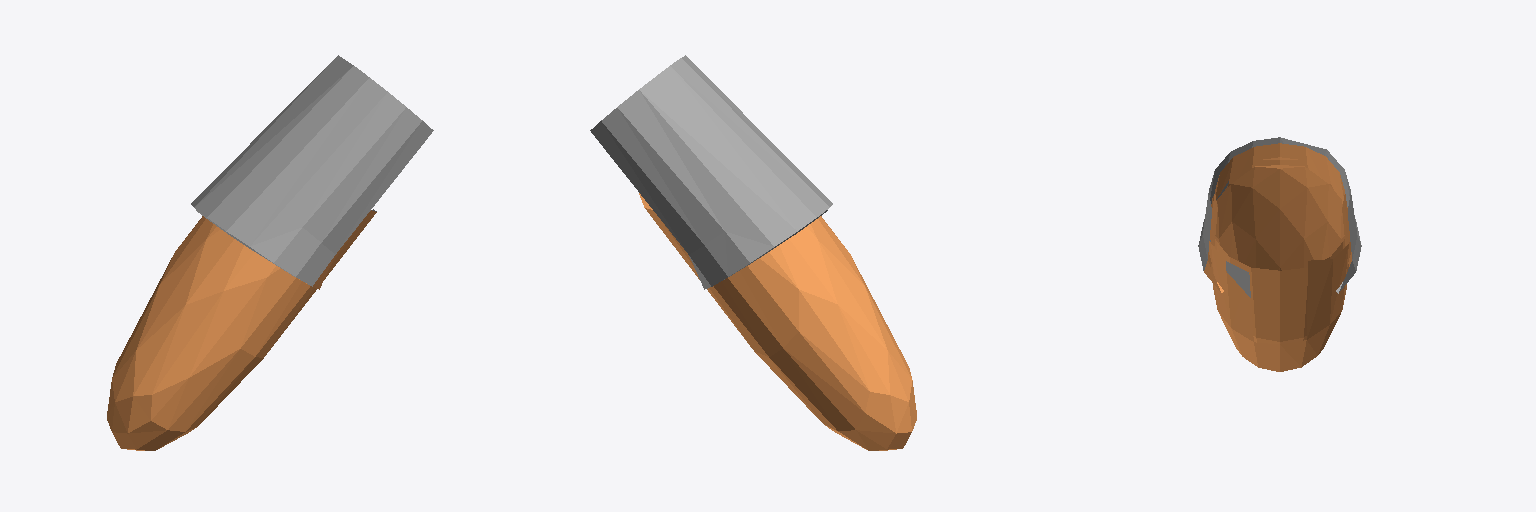
3 views of the same model, side by side, from view 1: azimuth 30°, elevation 25°; view 2: azimuth 150°, elevation 25°; view 3: azimuth 270°, elevation 25° (orthographic).
Visible parts, largest first — view 1: Right Arm; view 2: Right Arm; view 3: Right Arm.
Boxes of the visible parts, <box> form: Right Arm: <box>107,55,433,450</box>; Right Arm: <box>590,55,916,450</box>; Right Arm: <box>1198,137,1361,371</box>.
Size of the model in its own units: 1.64 by 1.81 by 0.8062.
Materials: 1 (1 with a texture image).